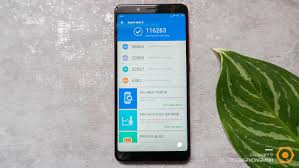bphone: (111, 2, 193, 164)
